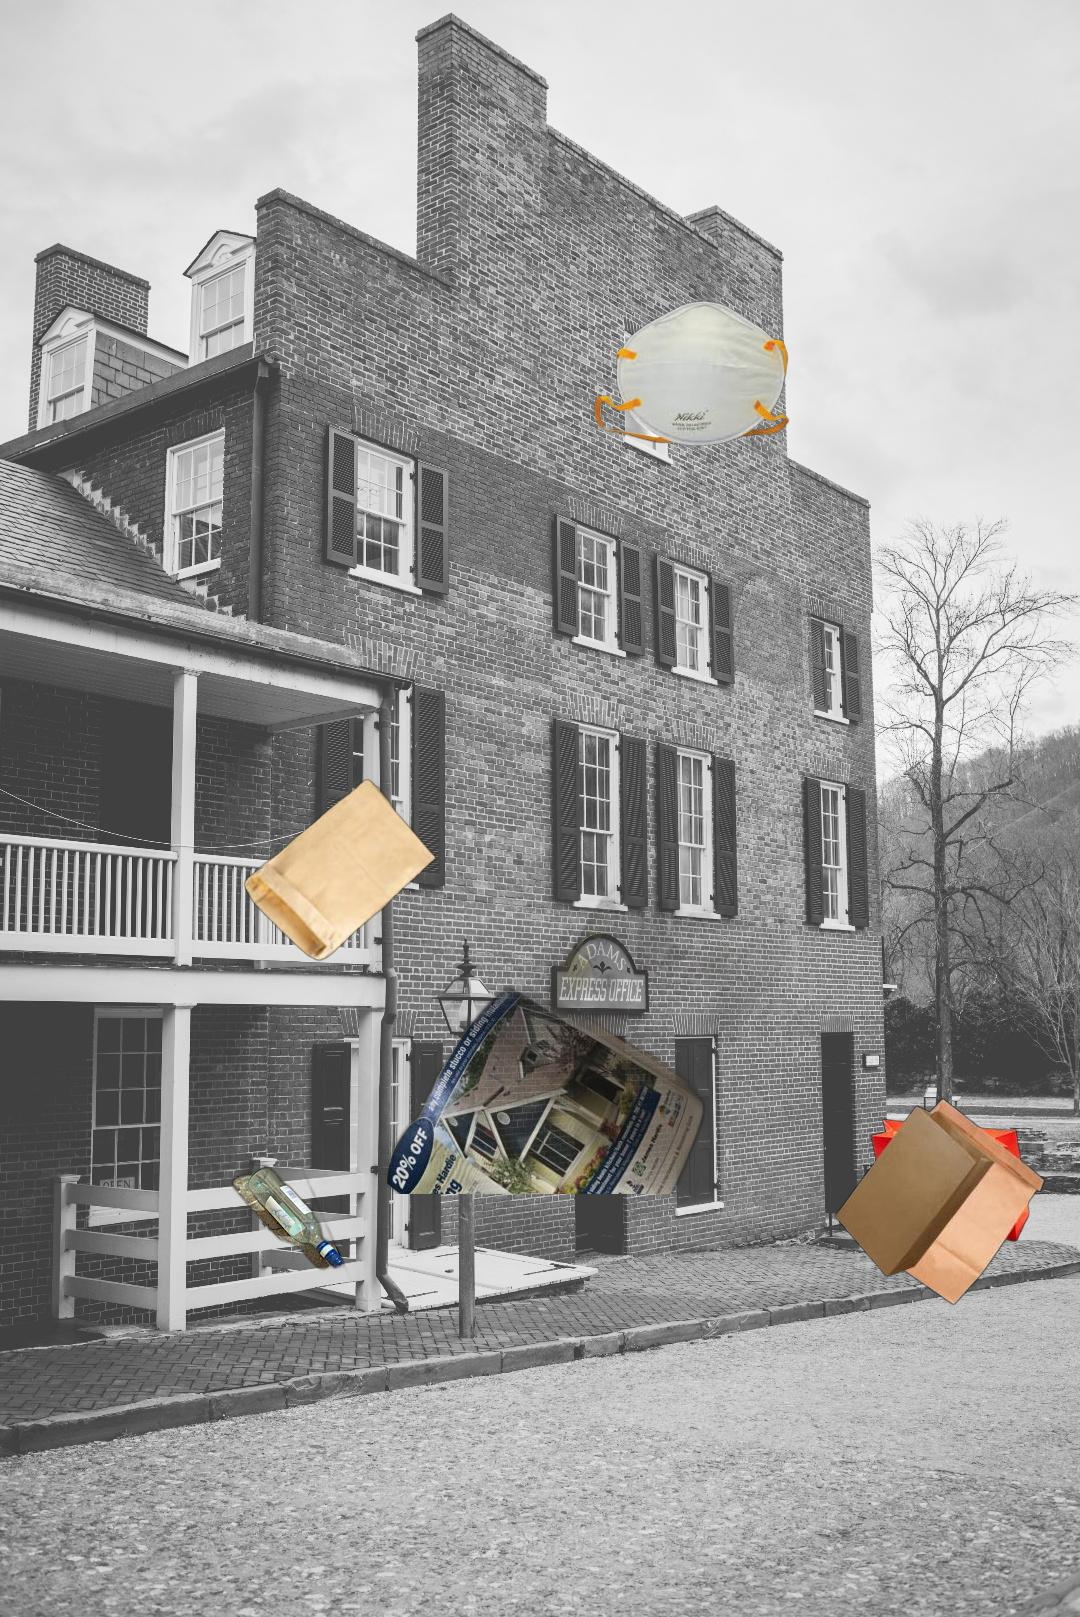glass: (227, 1146, 365, 1311)
paper: (315, 810, 826, 1194)
paper-bag: (832, 1096, 1046, 1306), (241, 778, 445, 964)
trash: (591, 298, 792, 449)
